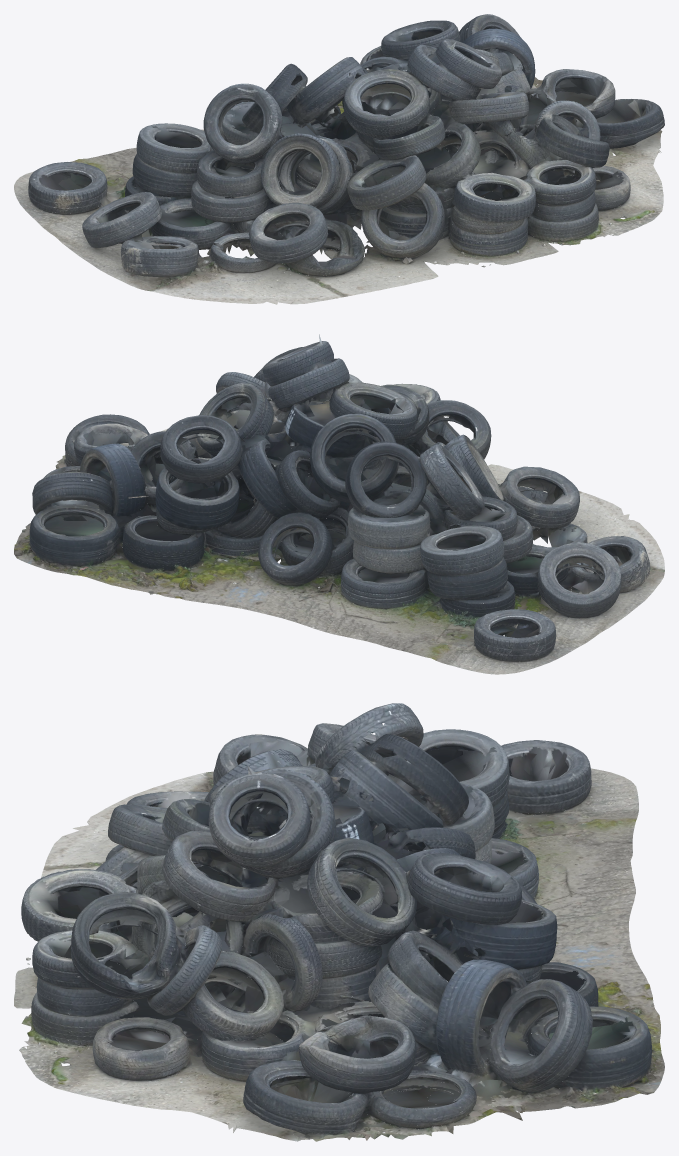
File: sf-pile-of-old-tires-3ee27b.glb
3 renders of one model, top to bottom at view 1: azimuth 30°, elevation 25°; view 2: azimuth 150°, elevation 25°; view 3: azimuth 270°, elevation 25°, orthographic. The views are drawn at different scales.
Visible parts, largest first — view 1: tires2_tires2_u1_v2_0, tires2_tires2_u2_v1_0, tires2_tires2_u2_v2_0, tires2_tires2_u1_v1_0; view 2: tires2_tires2_u1_v1_0, tires2_tires2_u2_v1_0, tires2_tires2_u1_v2_0, tires2_tires2_u2_v2_0; view 3: tires2_tires2_u2_v2_0, tires2_tires2_u1_v1_0, tires2_tires2_u1_v2_0, tires2_tires2_u2_v1_0.
Boxes of the visible parts, box(x1,y1,x2,y2) form: tires2_tires2_u1_v2_0: box(59, 31, 663, 304); tires2_tires2_u2_v1_0: box(28, 27, 664, 295); tires2_tires2_u2_v2_0: box(377, 30, 663, 239); tires2_tires2_u1_v1_0: box(14, 14, 581, 240); tires2_tires2_u1_v1_0: box(14, 415, 604, 674); tires2_tires2_u2_v1_0: box(43, 382, 587, 661); tires2_tires2_u1_v2_0: box(51, 334, 664, 631); tires2_tires2_u2_v2_0: box(67, 338, 339, 513); tires2_tires2_u2_v2_0: box(58, 766, 436, 1135); tires2_tires2_u1_v1_0: box(415, 729, 664, 1136); tires2_tires2_u1_v2_0: box(14, 723, 437, 1139); tires2_tires2_u2_v1_0: box(50, 703, 609, 1141).
Bounding box in the file's own units: 5.31 × 1.51 × 3.71.
4 materials, 4 textured.
